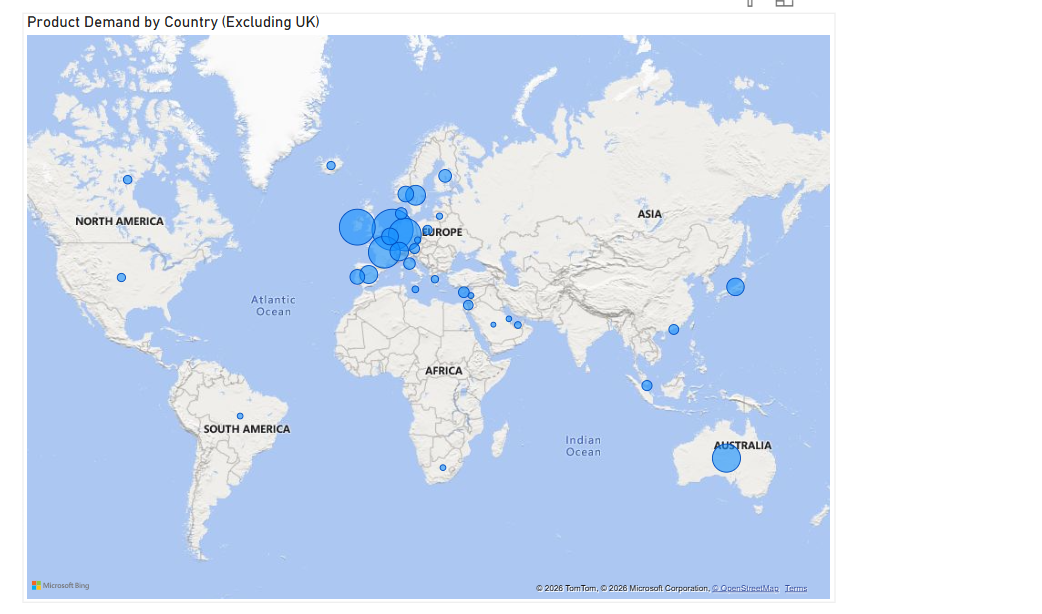

The page's visual inventory and layout, read from the dashboard file:
{"tool":"powerbi","page":{"name":"Question 4","canvas":[1280,720],"ordinal":3},"visuals":[{"type":"map","title":"Product Demand by Country (Excluding UK)","fields":{"Category":["Online Retail.Country"],"Size":["Sum(Online Retail.Quantity)"]},"box":[46.7,36.7,891.7,648.3],"z":0}]}

Visuals, with their boxes on the page's 1280x720 design canvas (x1, y1, x2, y2). These are canvas units, not pixel positions in the 1042x614 screenshot, which may show the page scaled, cropped or inside an application window:
"Product Demand by Country (Excluding UK)" map: region(47, 37, 938, 685)
